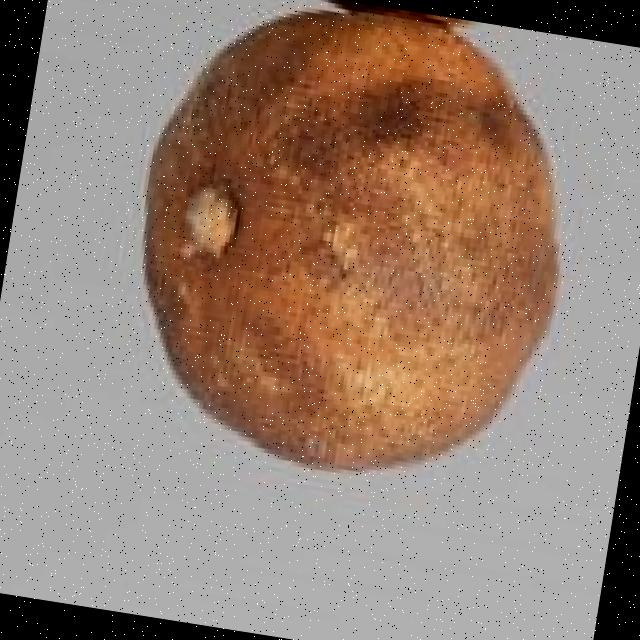overripe: (95, 0, 602, 507)
